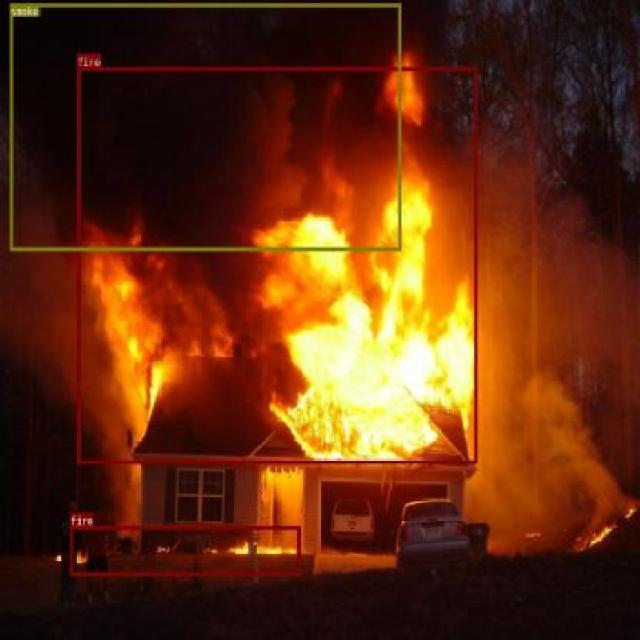Fire: (77, 66, 477, 463), (69, 526, 300, 574)
Smoke: (10, 2, 401, 250)
